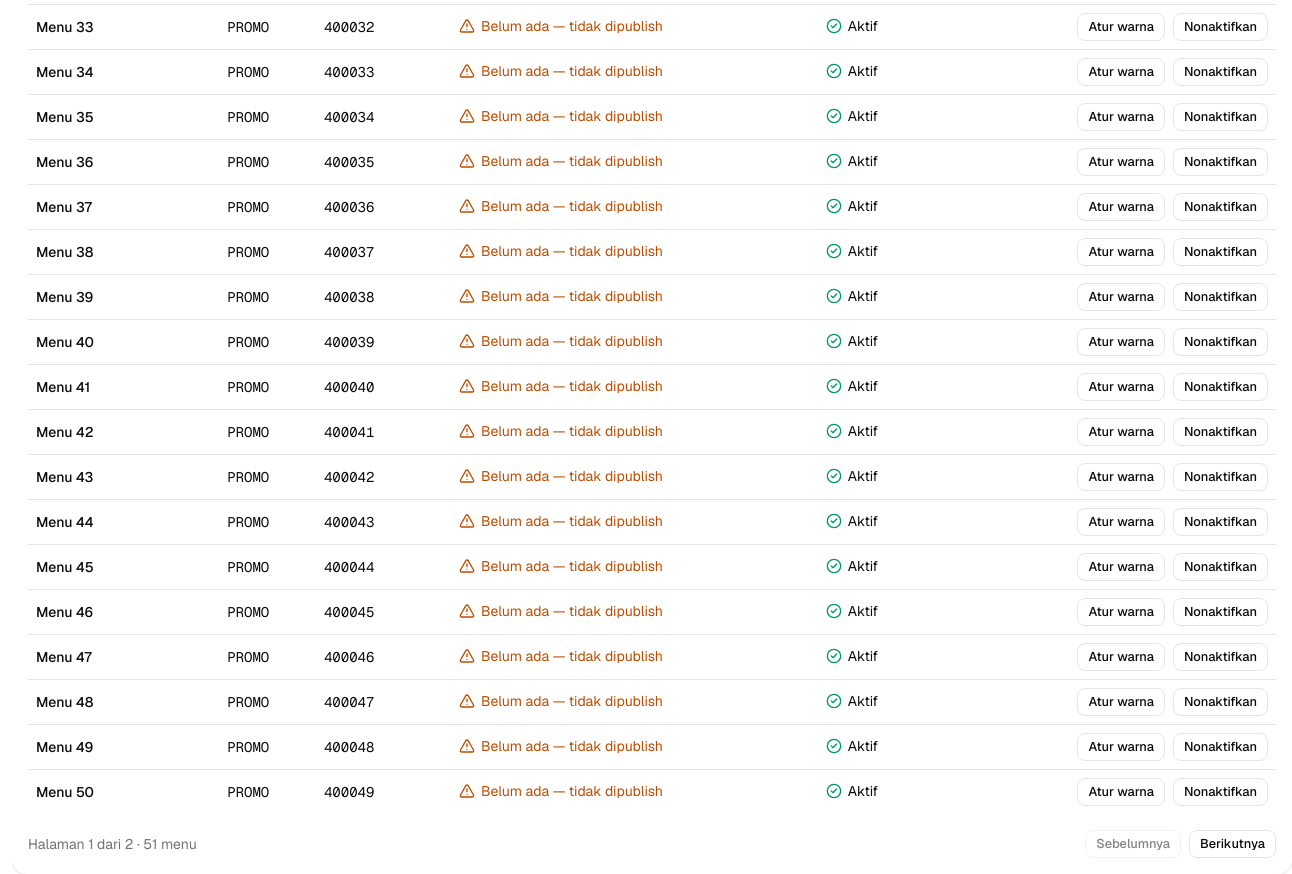
Test case: ProductMenusView — mapping per menu › daftar menu terdaftar dipaginasi
The image size is (1292, 874).
(page scrolled)
Check: the text "Halaman 1 dari 2 · 51 menu" is shown, box [28,834,197,854]
What coordinates should you click on to do the following:
click the button "Berikutnya"
I would click on:
 (1233, 844)
Its box is [1189,830,1276,858].
(page scrolled)
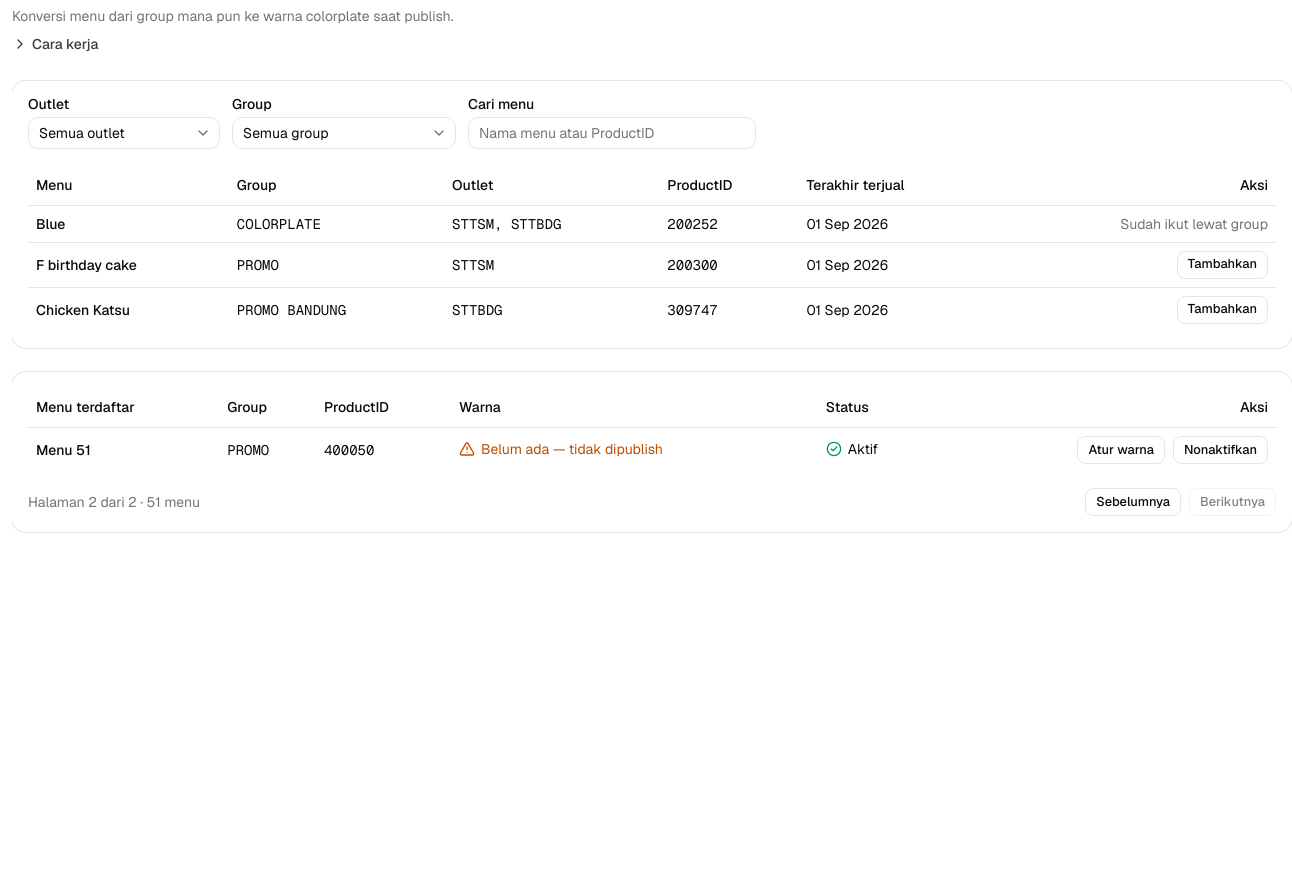
Check: the text "Menu 51" is shown, box [28,428,219,472]
